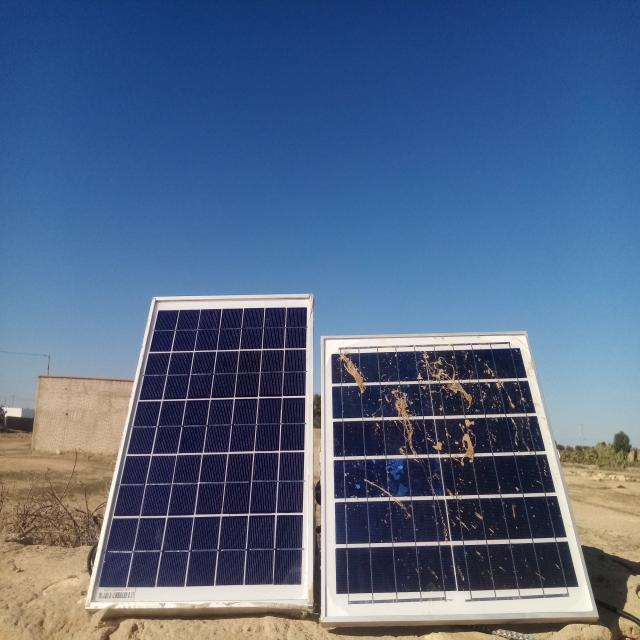faulty: (321, 333, 600, 625)
no faulty: (85, 292, 313, 606)
